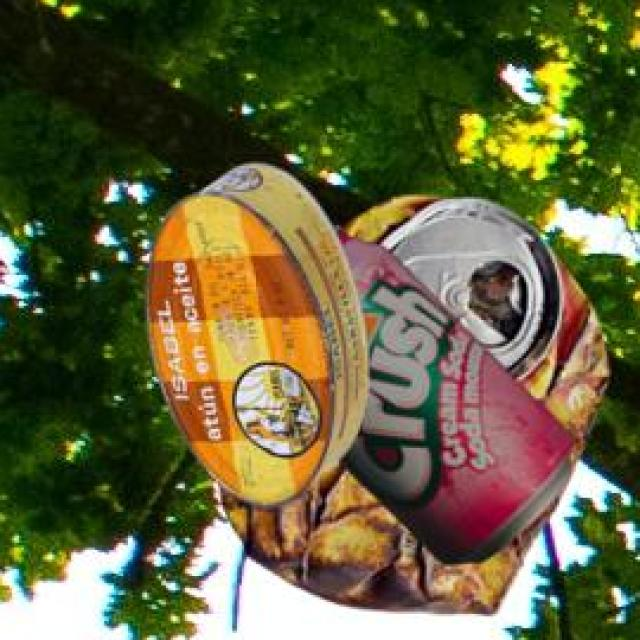logam: (219, 193, 606, 610), (331, 222, 570, 561), (143, 160, 364, 504)
